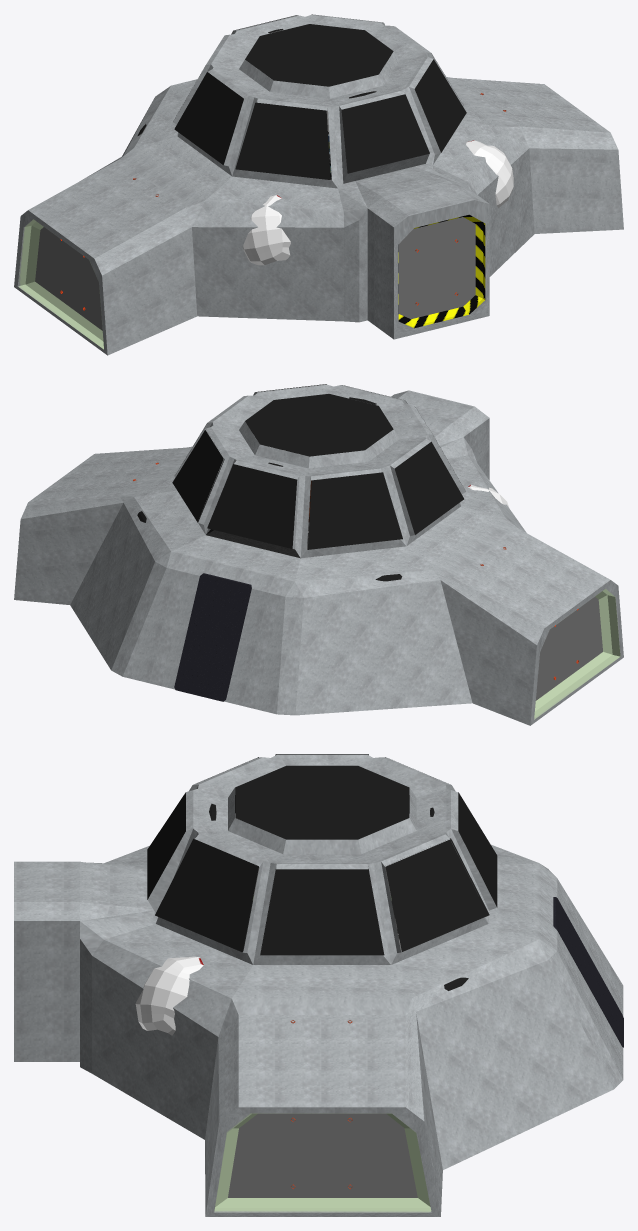
File: cockpit-internals.fbx
3 renders of one model, top to bottom at view 1: azimuth 30°, elevation 25°; view 2: azimuth 150°, elevation 25°; view 3: azimuth 270°, elevation 25°, orthographic. The views are drawn at different scales.
Visible parts, largest first — view 1: cockpit, windows, helmet, helmet_001; view 2: cockpit, windows, mainframe, instrument-panel-body; view 3: cockpit, windows, helmet_001, mainframe.
Part boxes in pixels (bbox=[...]): cockpit: bbox=[14, 14, 623, 355]; windows: bbox=[174, 14, 466, 179]; helmet: bbox=[243, 195, 290, 265]; helmet_001: bbox=[465, 140, 513, 207]; cockpit: bbox=[14, 384, 623, 725]; windows: bbox=[172, 384, 463, 549]; mainframe: bbox=[174, 573, 251, 701]; instrument-panel-body: bbox=[206, 529, 300, 558]; cockpit: bbox=[14, 754, 623, 1216]; windows: bbox=[147, 754, 497, 955]; helmet_001: bbox=[135, 956, 203, 1035]; mainframe: bbox=[553, 897, 623, 1047].
Bounding box in the file's own units: 4 × 1.5 × 3.25.
Materials: 24 (23 with a texture image).
